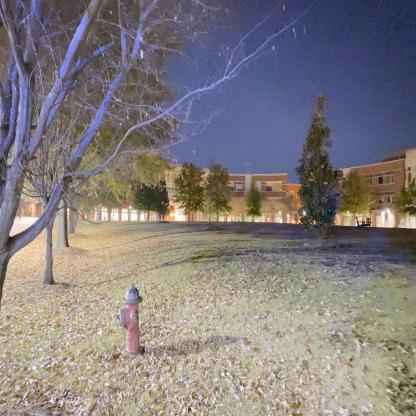eb2: (55, 144, 300, 240)
